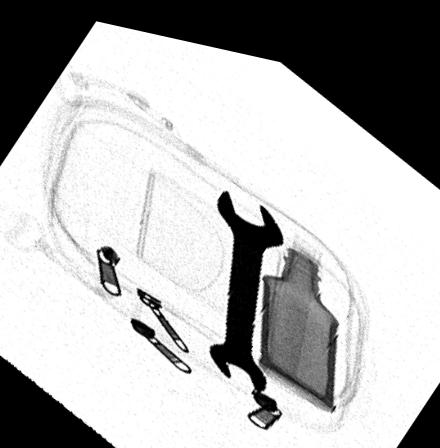Wrench: (205, 175, 287, 386)
